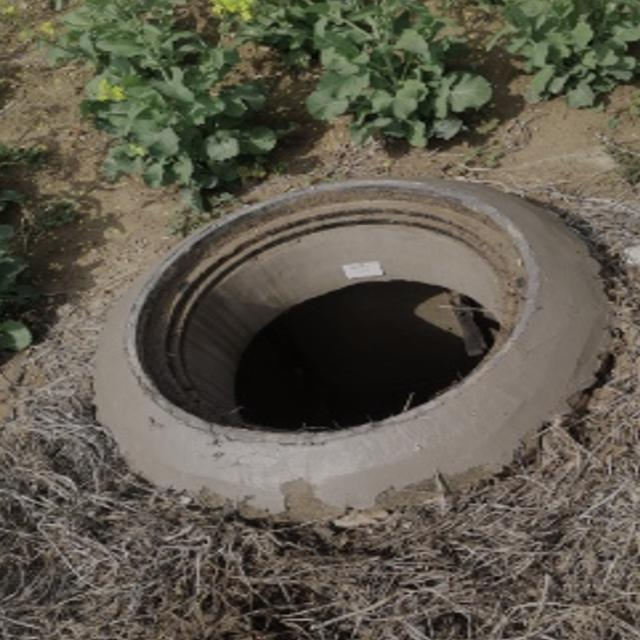lose: (95, 184, 640, 527)
